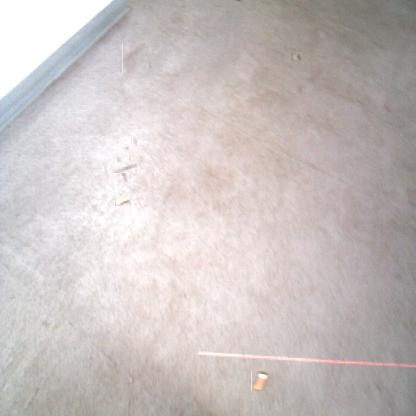dirty: (251, 372, 271, 391), (114, 192, 130, 206), (292, 51, 303, 61)
mark: (121, 44, 151, 73), (113, 157, 133, 178), (131, 135, 137, 147), (123, 144, 129, 152)
